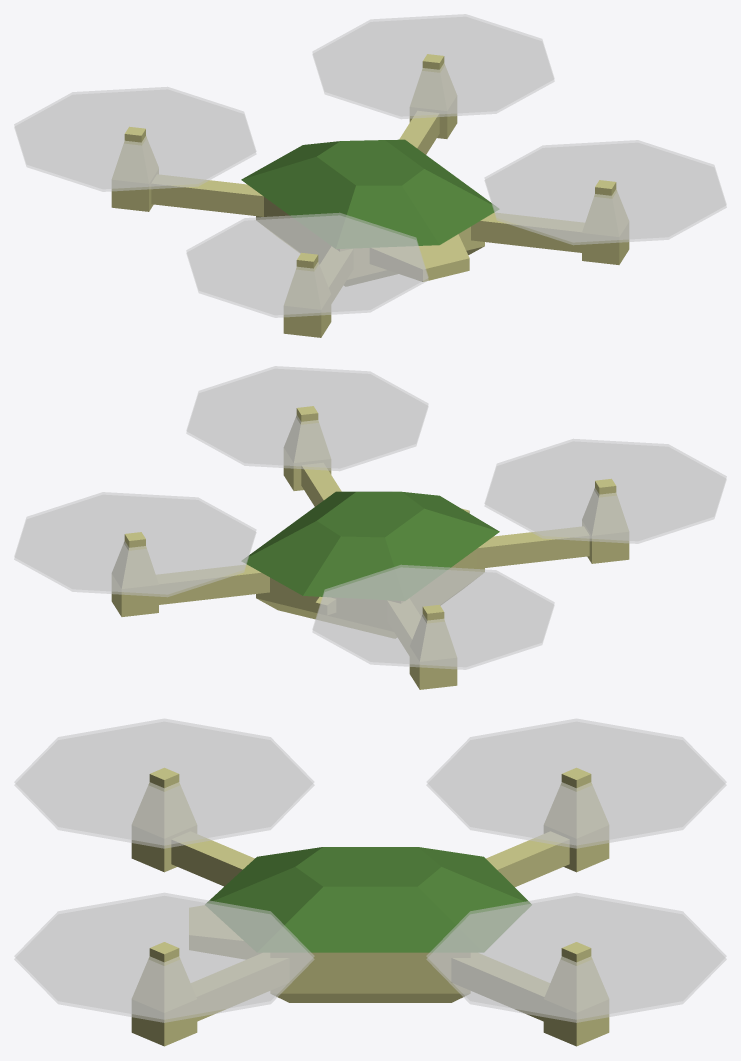
Rendered from drone.fbx.
The picture shows the model from 3 angles, top to bottom: view 1: azimuth 30°, elevation 25°; view 2: azimuth 150°, elevation 25°; view 3: azimuth 270°, elevation 25°; orthographic projection. The views are drawn at different scales.
Visible parts, largest first — view 1: Cube.022; view 2: Cube.022; view 3: Cube.022.
Boxes of the visible parts, x1,y1,x2,y2 form: Cube.022: [14, 14, 726, 337]; Cube.022: [14, 366, 726, 689]; Cube.022: [14, 718, 726, 1046].
Size of the model in its own units: 98.4 by 16.38 by 98.4.
